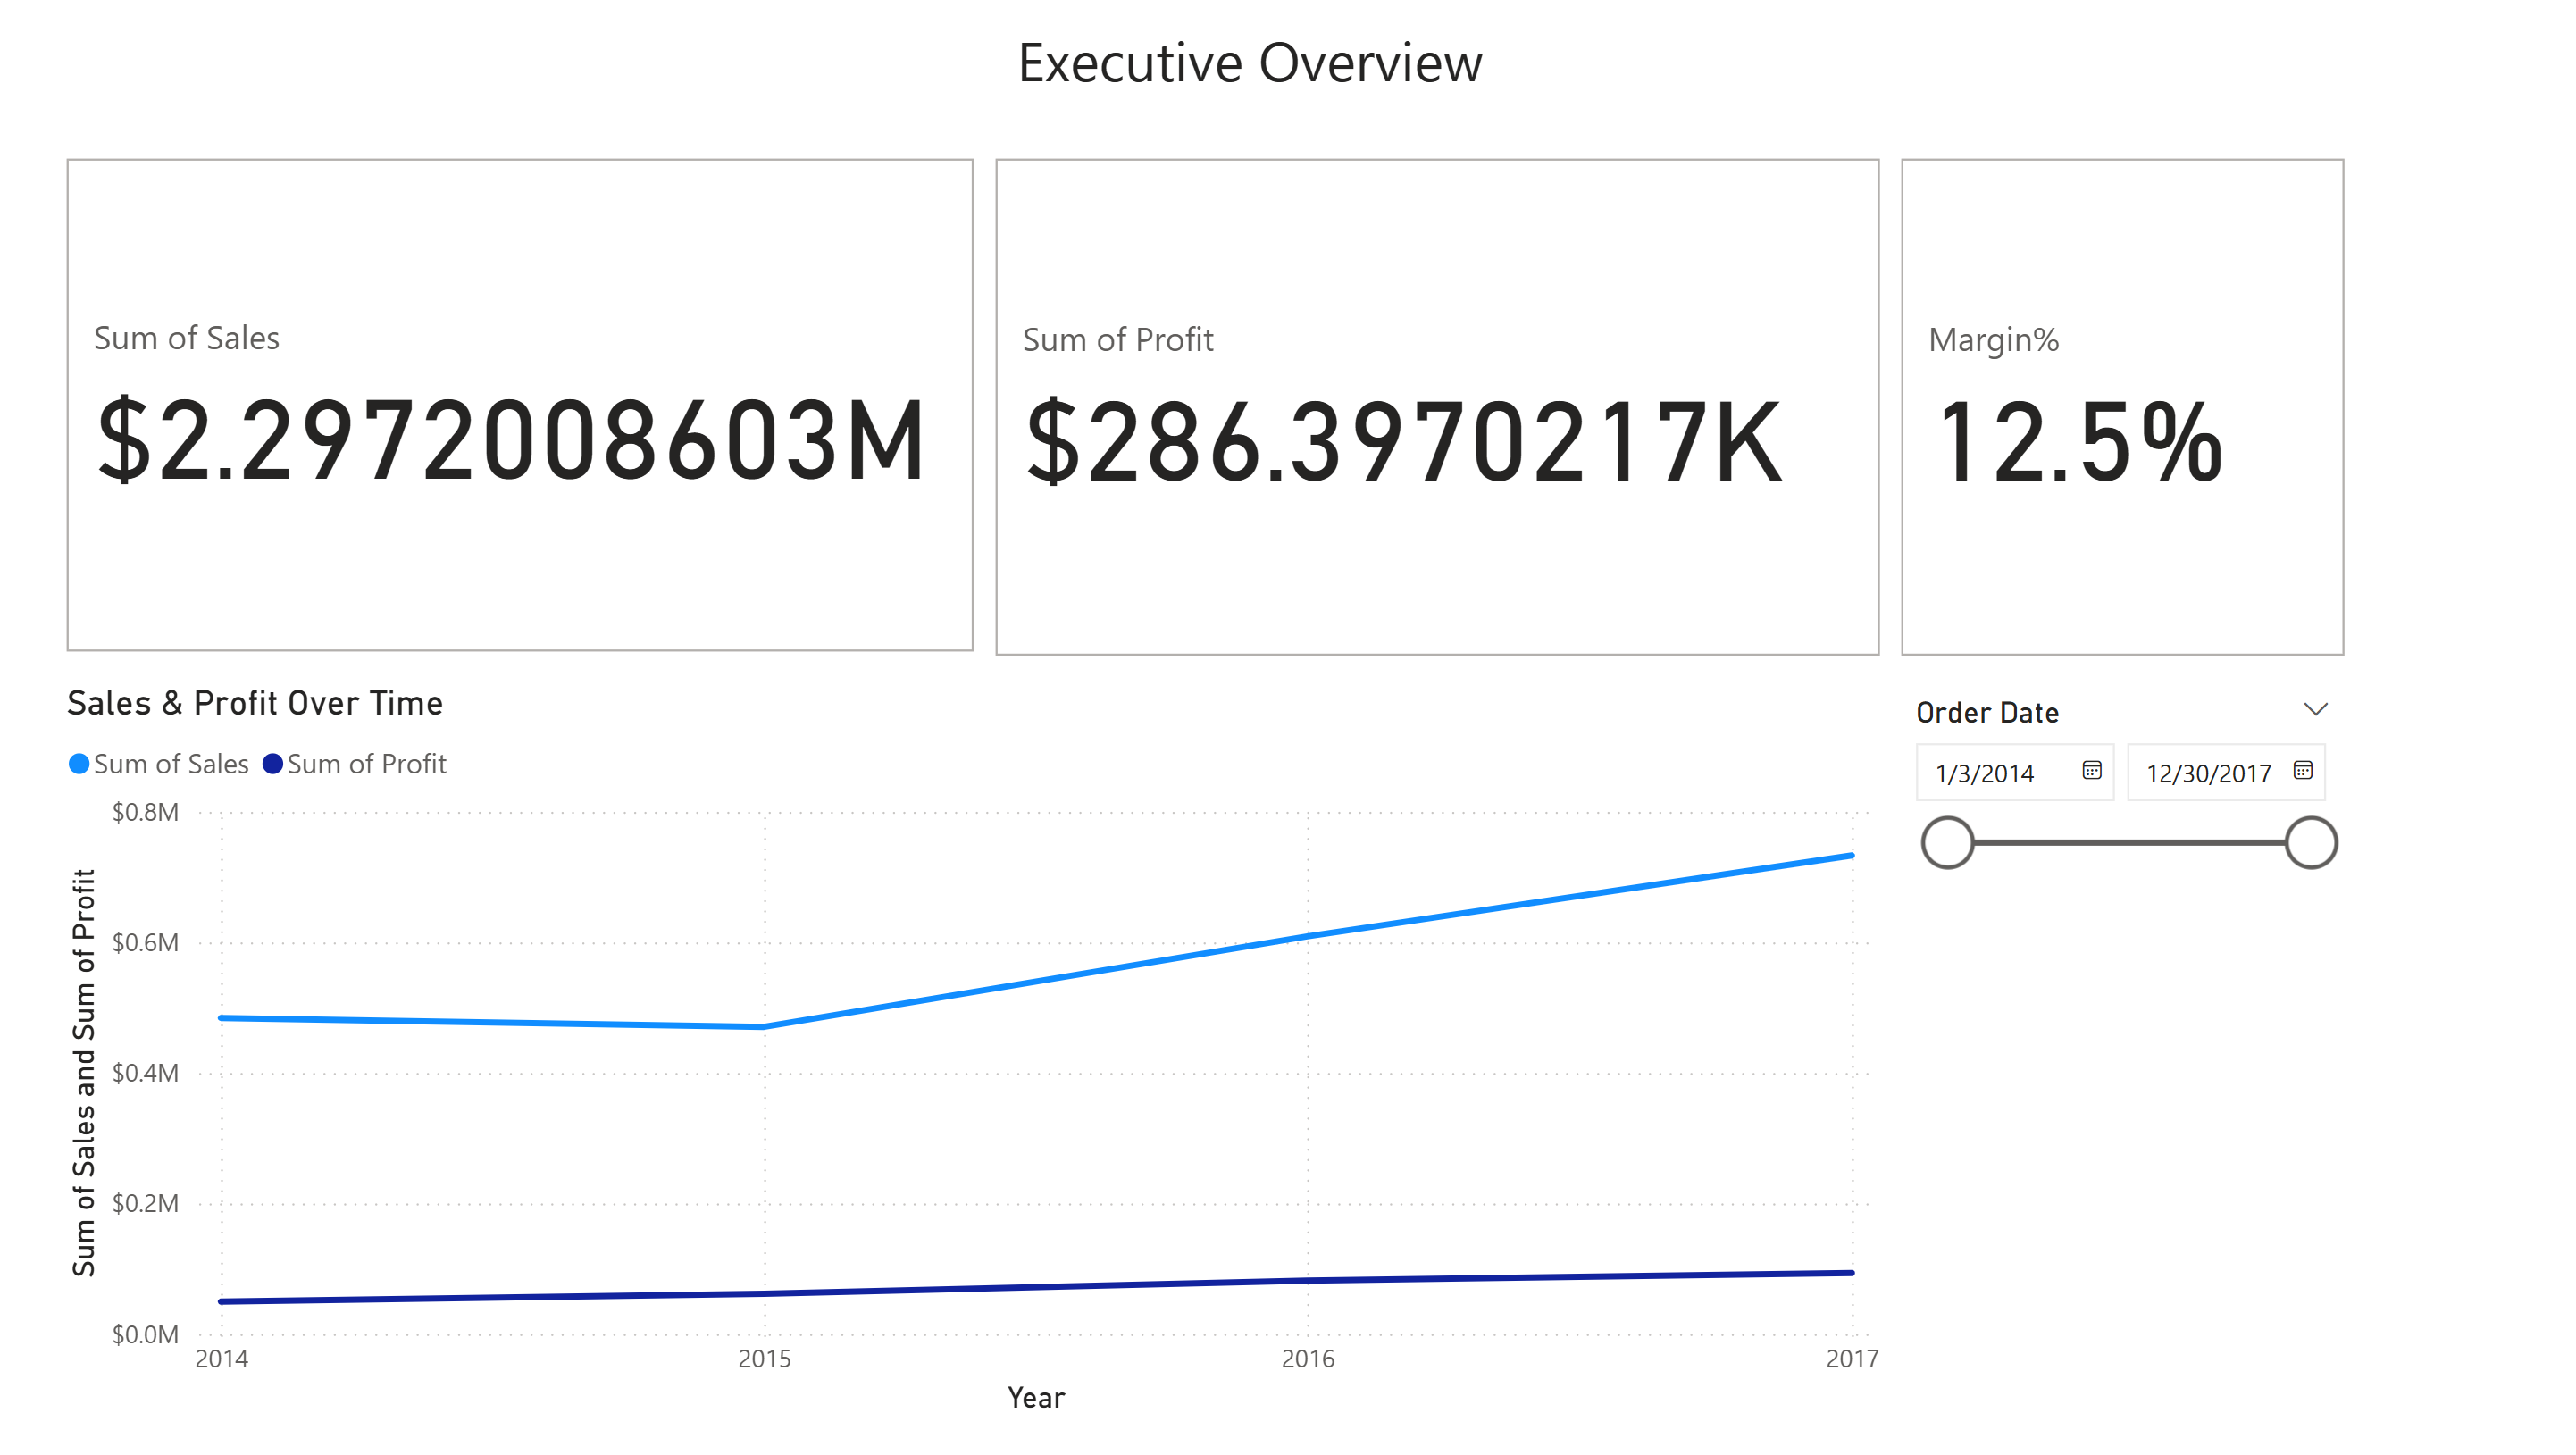

The dashboard page shown, as its layout file describes it:
{"tool":"powerbi","page":{"name":"Page 1","canvas":[1280,720],"ordinal":0},"visuals":[{"type":"cardVisual","fields":{"Data":["Sum(Query1.Sales)"]},"box":[57.6,34.9,448.9,298.8],"z":0},{"type":"cardVisual","fields":{"Data":["Sum(Query1.Profit)"]},"box":[506.5,34.9,436.8,300.3],"z":1000},{"type":"cardVisual","fields":{"Data":["sales_data.Margin%"]},"box":[943.3,34.9,224.5,300.3],"z":2000},{"type":"lineChart","title":"Sales & Profit Over Time","fields":{"Category":["sales_data.Order Date.Variation.Date Hierarchy.Year","sales_data.Order Date.Variation.Date Hierarchy.Month"],"Y":["Sum(sales_data.Sales)","Sum(sales_data.Profit)"]},"box":[58.2,343.9,813.3,358.1],"z":3000},{"type":"slicer","fields":{"Values":["sales_data.Order Date"]},"box":[943,344,224,358],"z":3001}]}

Visuals, with their boxes in screenshot pixels (x1, y1, x2, y2), scaled from the page's 1280x720 canvas onto the 2576x1455 screenshot:
cardVisual - Sum(Query1.Sales): box(116, 71, 1019, 674)
cardVisual - Sum(Query1.Profit): box(1019, 71, 1898, 677)
cardVisual - sales_data.Margin%: box(1898, 71, 2350, 677)
"Sales & Profit Over Time" lineChart: box(117, 695, 1754, 1418)
slicer - sales_data.Order Date: box(1898, 695, 2348, 1418)
